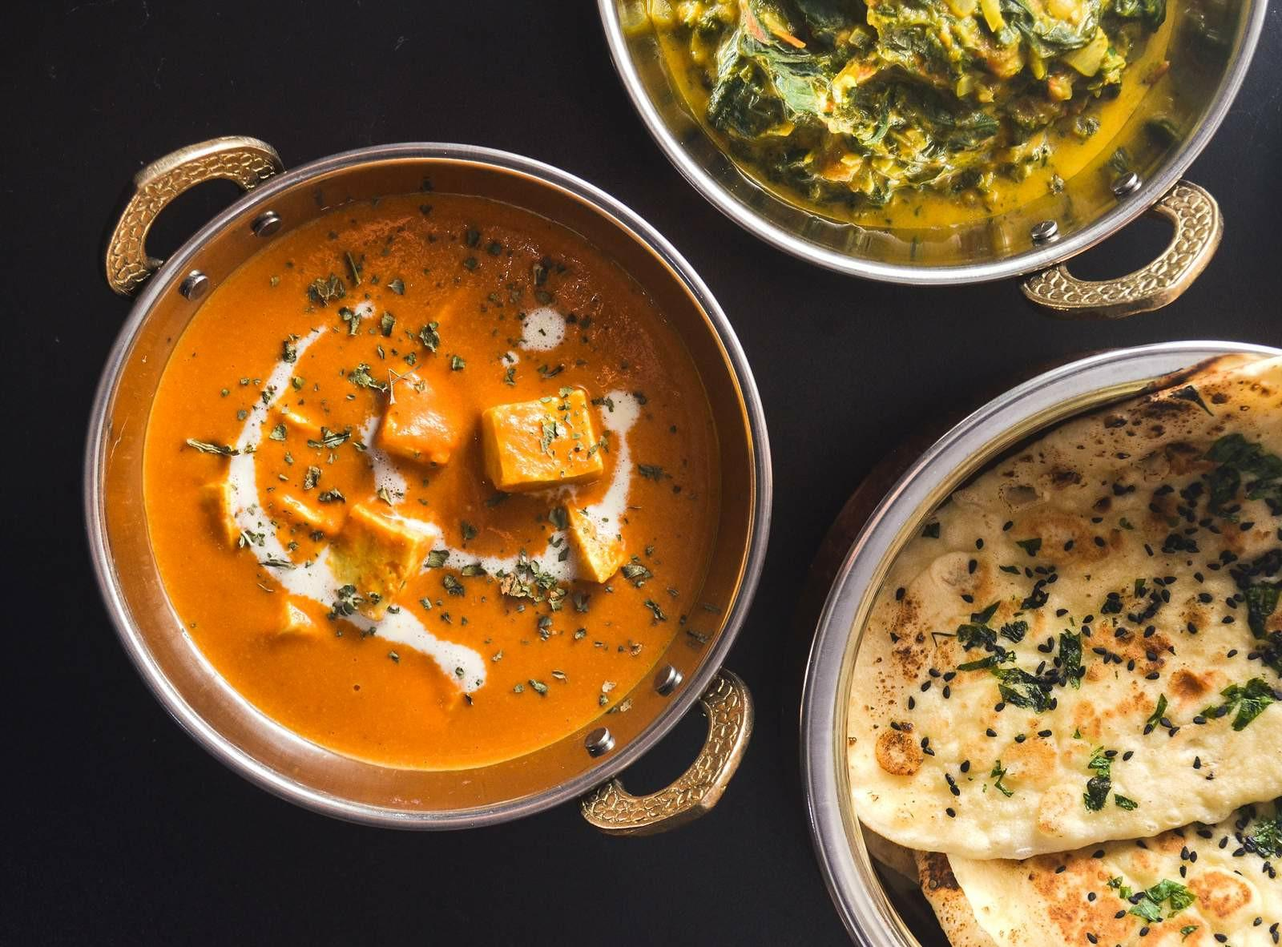ShahiPaneer: (139, 178, 733, 760)
